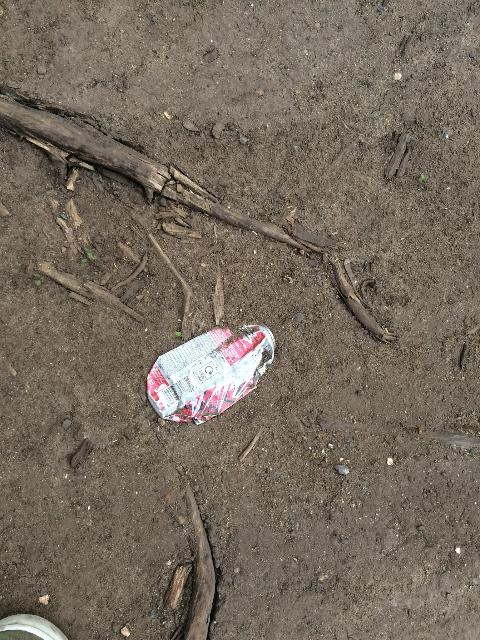metal: (146, 325, 274, 423)
